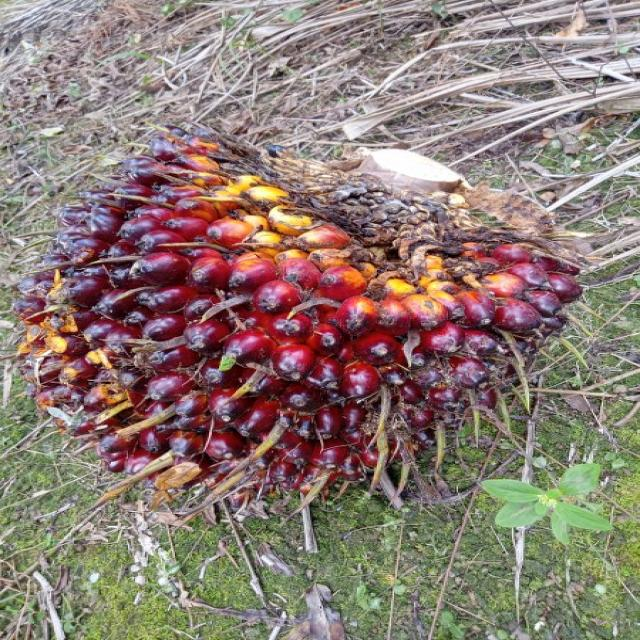fraksi 1: (30, 138, 578, 513)
